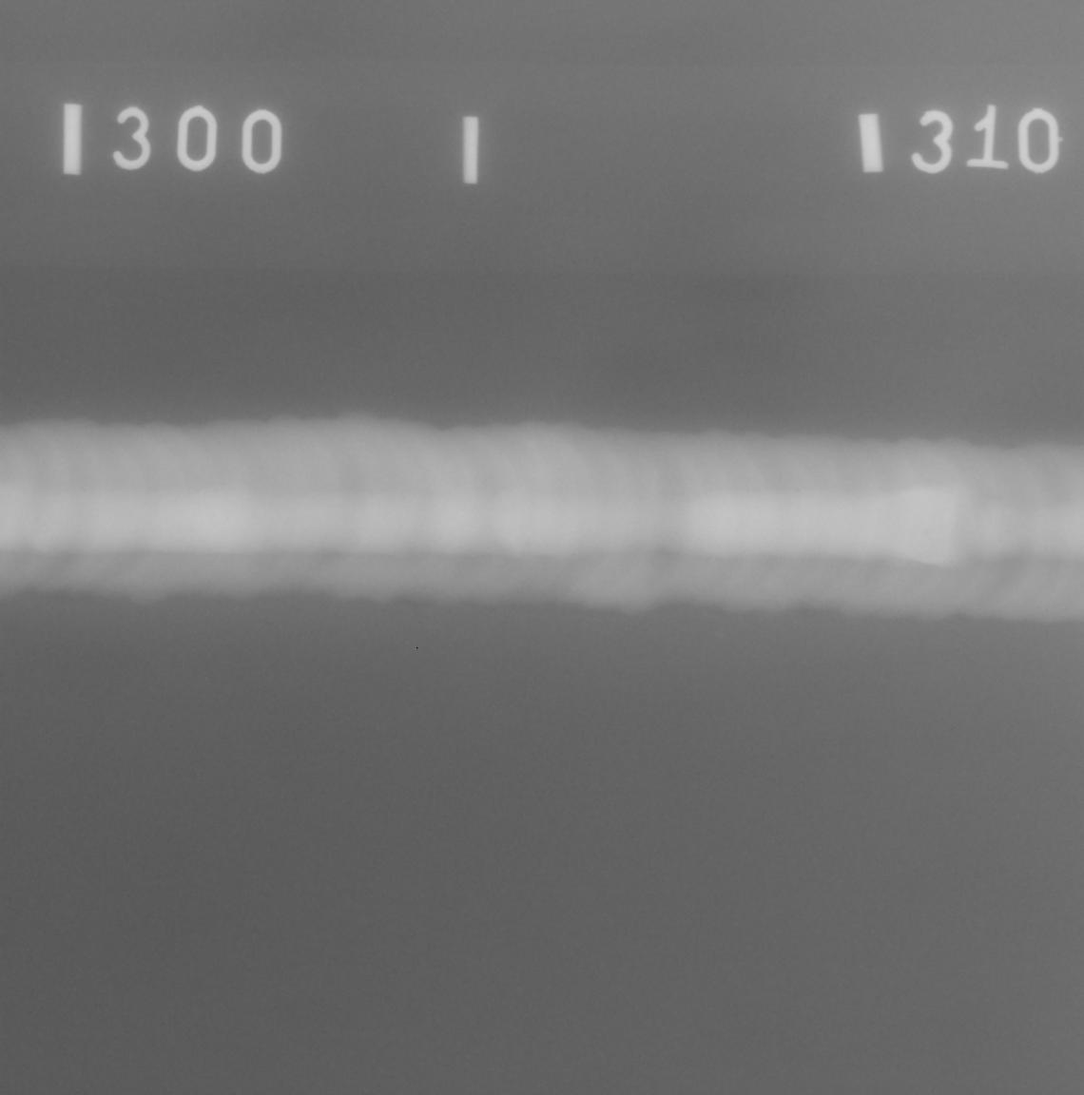Pore/Porosity: (794, 488, 799, 492), (925, 530, 929, 535)
